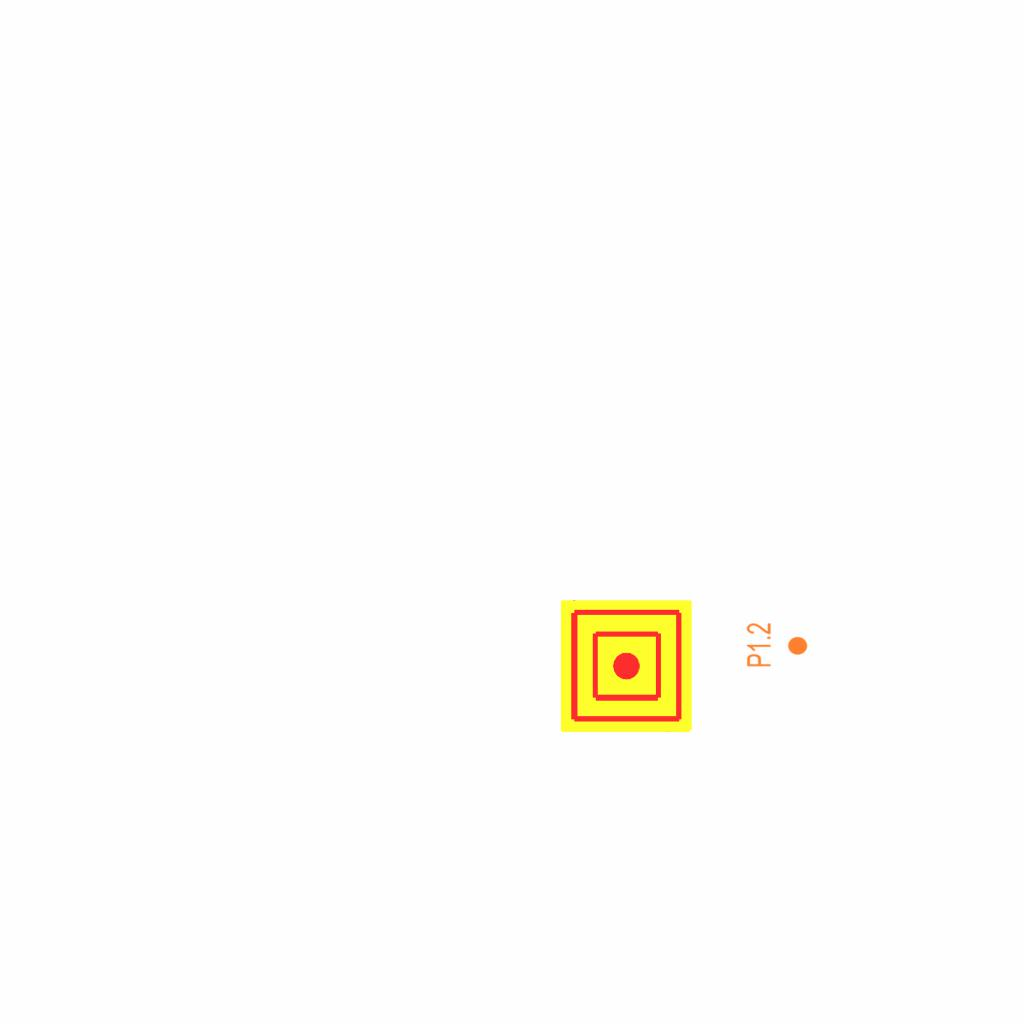Downlight_LED_Einbauleuchten_Flur: (745, 622, 809, 668)
NAM-Nichtautomatischer_Melder: (560, 600, 692, 732)
